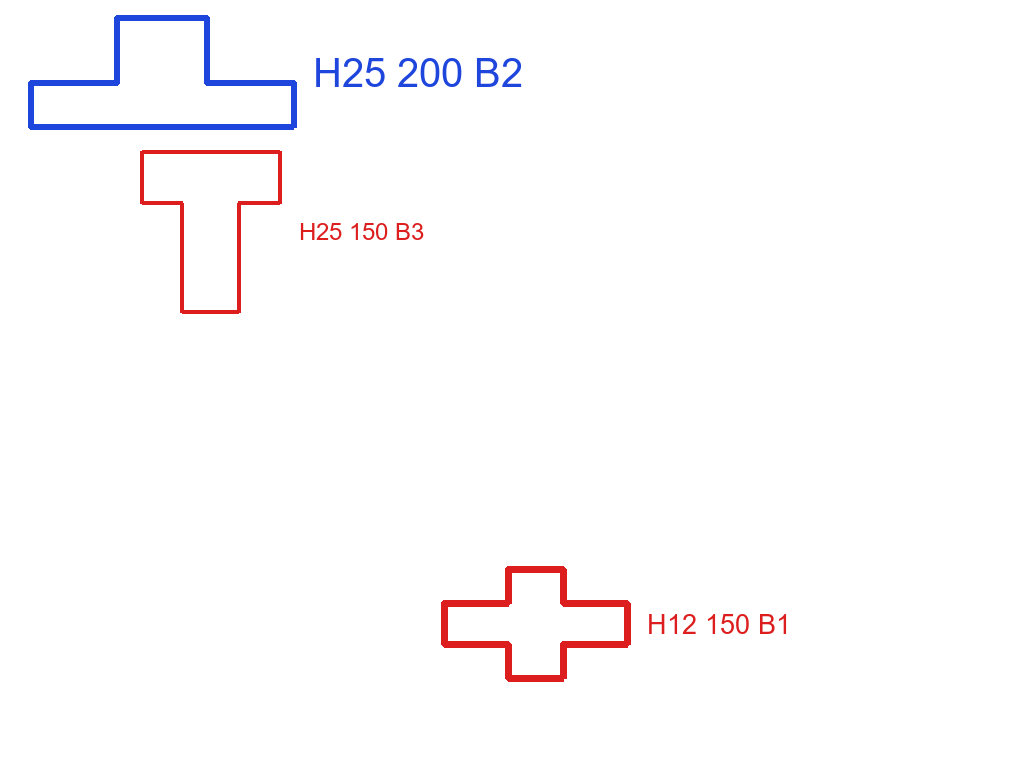shape: (26, 13, 298, 132), (138, 147, 283, 316), (439, 564, 633, 684)
text: (311, 56, 525, 89), (645, 612, 793, 636), (297, 221, 426, 242)
